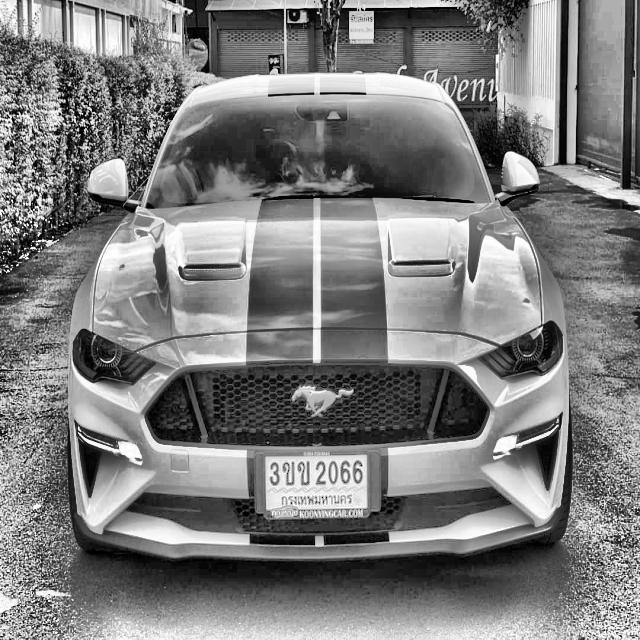license-plate: (262, 452, 372, 522)
